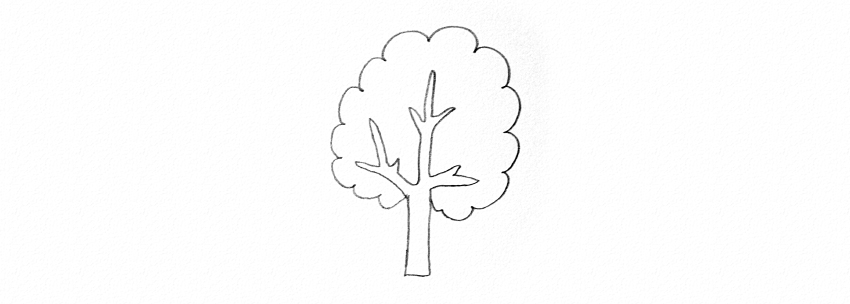tree: (307, 12, 566, 283)
